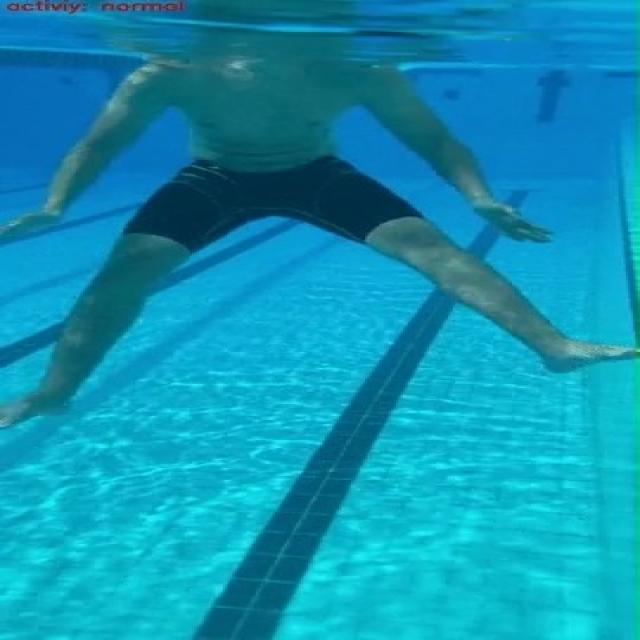Drowning: (9, 52, 640, 418)
